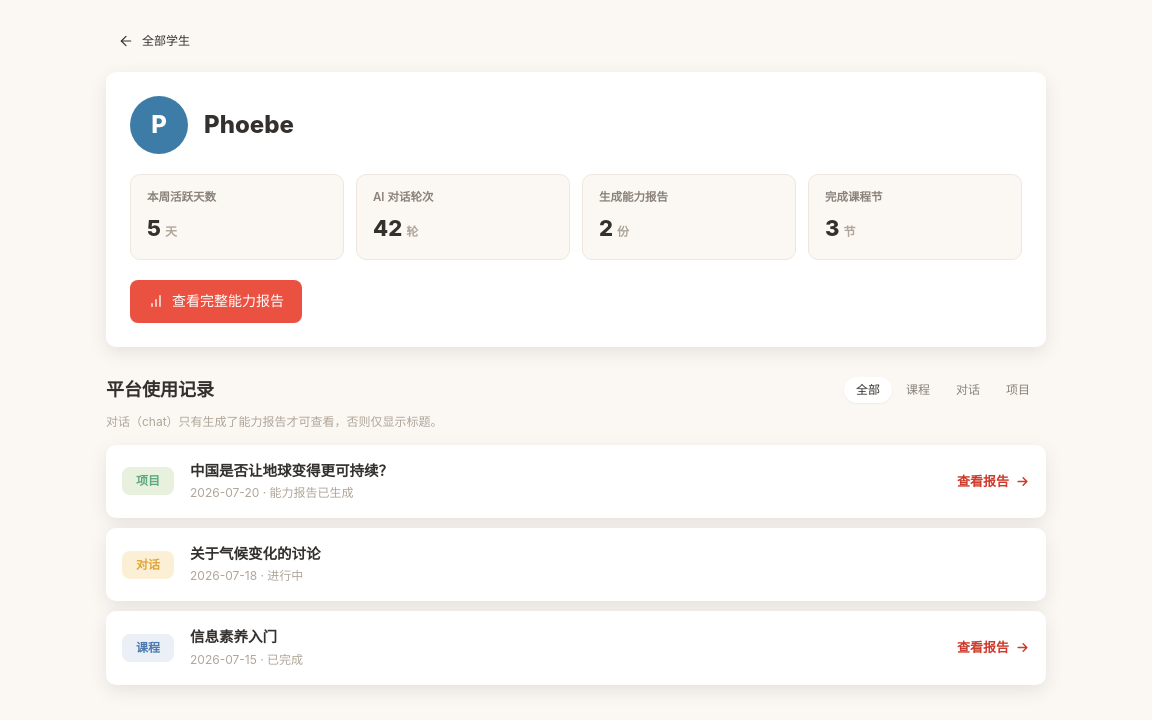
it: StudentDetailView › filters records by tab: clicking 项目 shows only the project row
Expected: the text "中国是否让地球变得更可持续？" is shown, x1=190 y1=462 x2=393 y2=479
Expected: the text "关于气候变化的讨论" is shown, x1=190 y1=545 x2=320 y2=562
Click the button "项目": click(1018, 390) x1=994 y1=377 x2=1042 y2=403
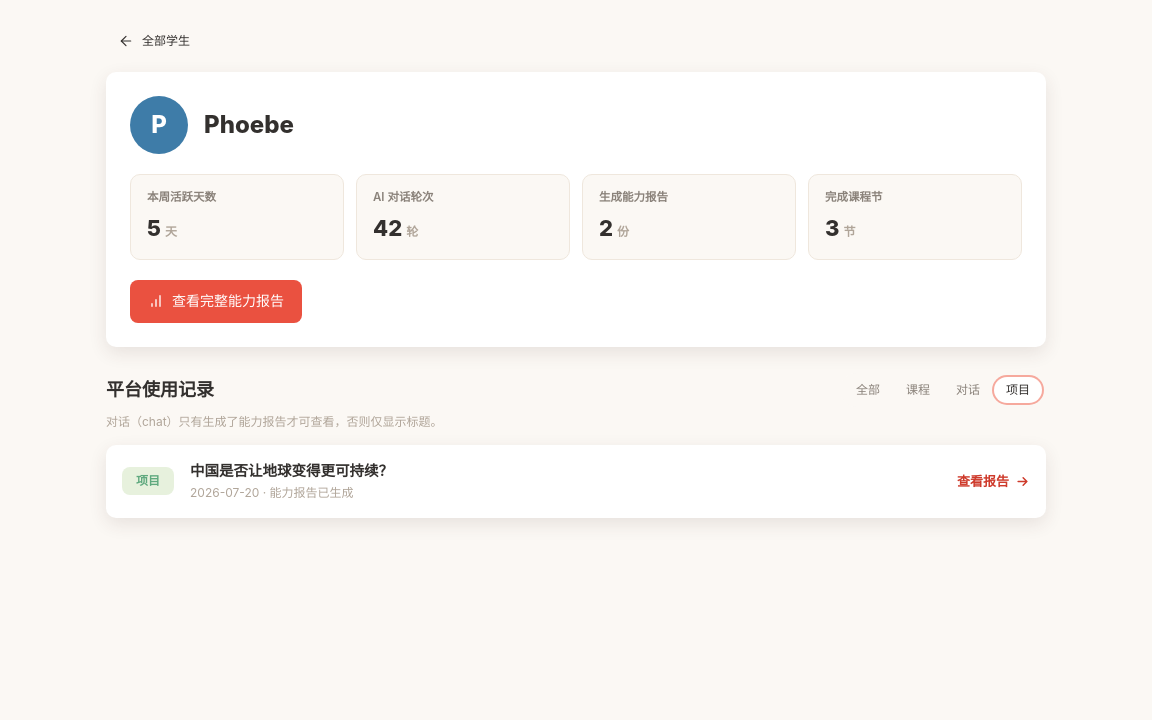
Expected: the text "中国是否让地球变得更可持续？" is shown, x1=190 y1=462 x2=393 y2=479
Now the text "关于气候变化的讨论" is gone
Now the text "信息素养入门" is gone
